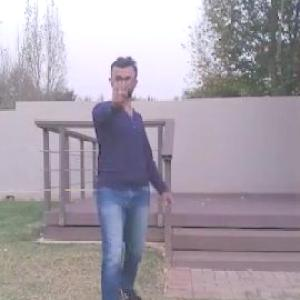takeoff-hand: (106, 67, 142, 111)
